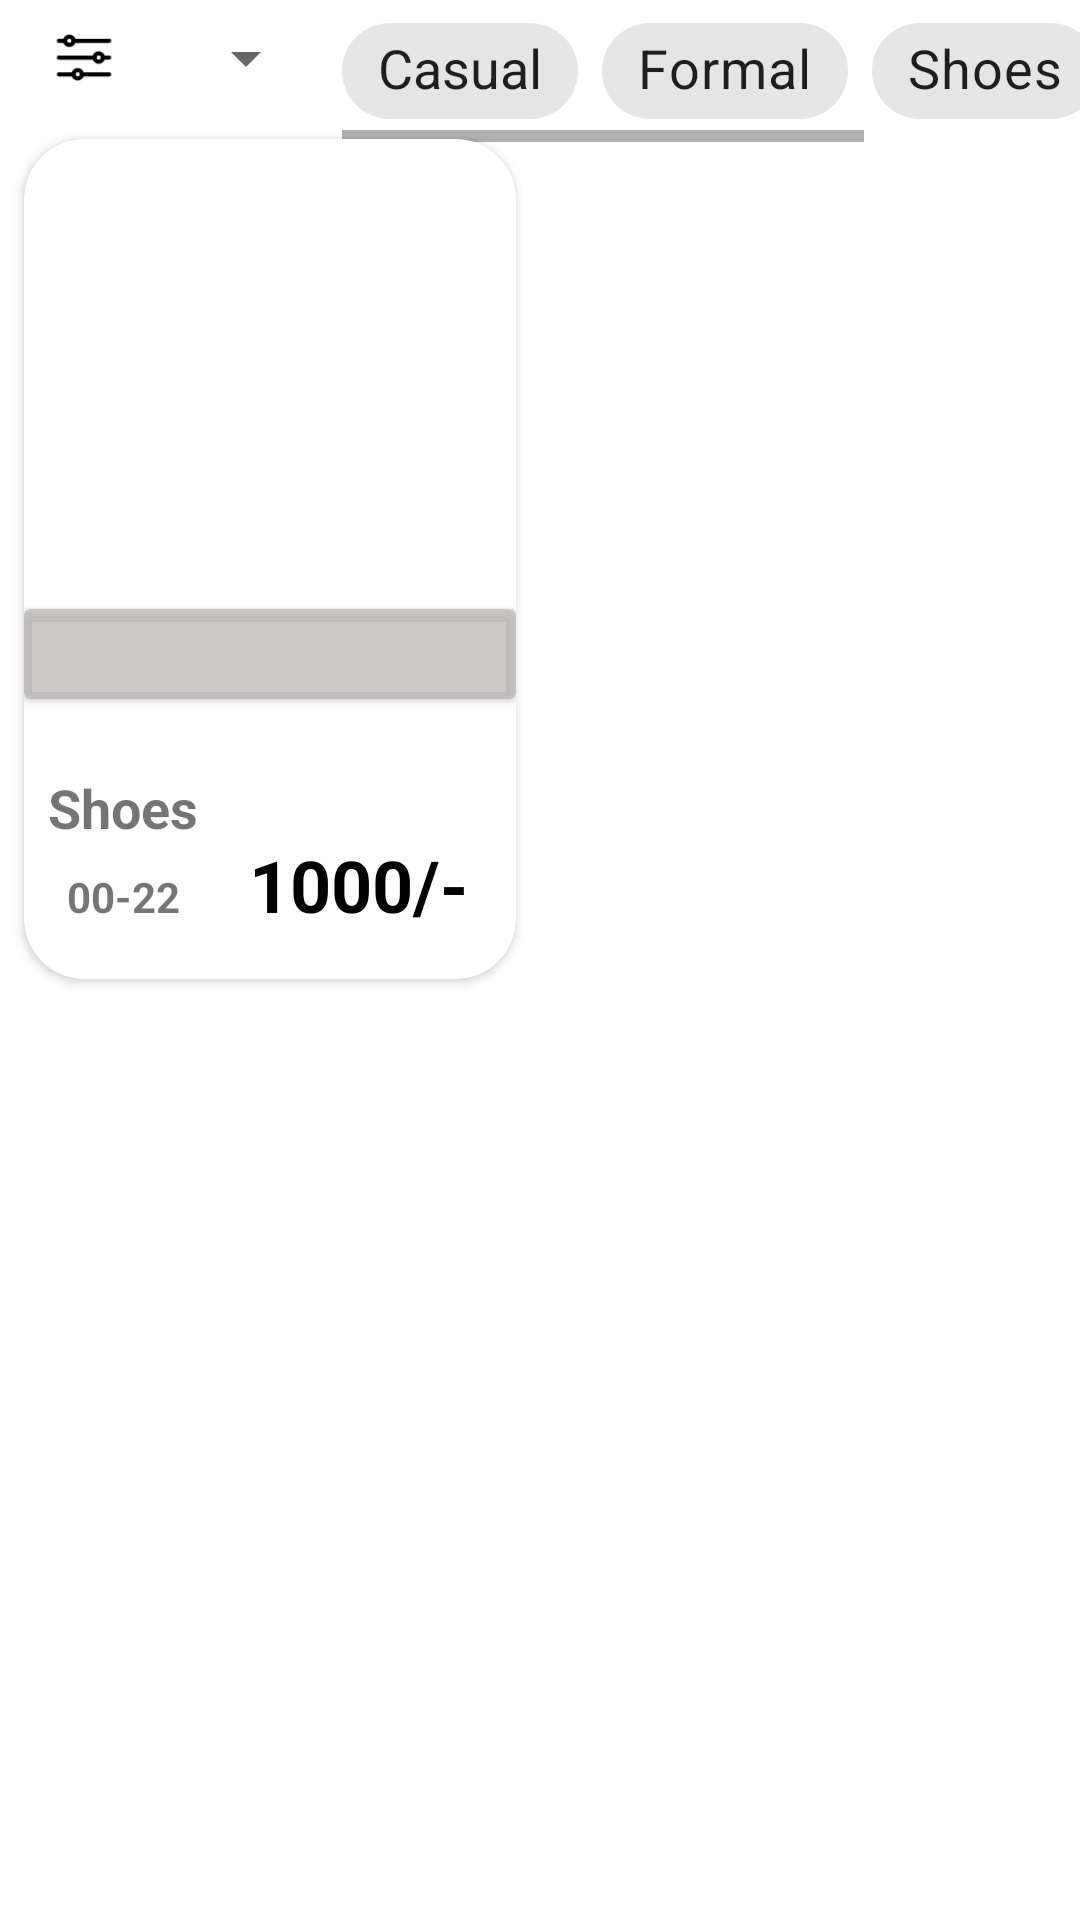

Icons on this 1080×1920 Android screen, each with the point to tap as (x=x, y=y):
filters: (x=84, y=57)
